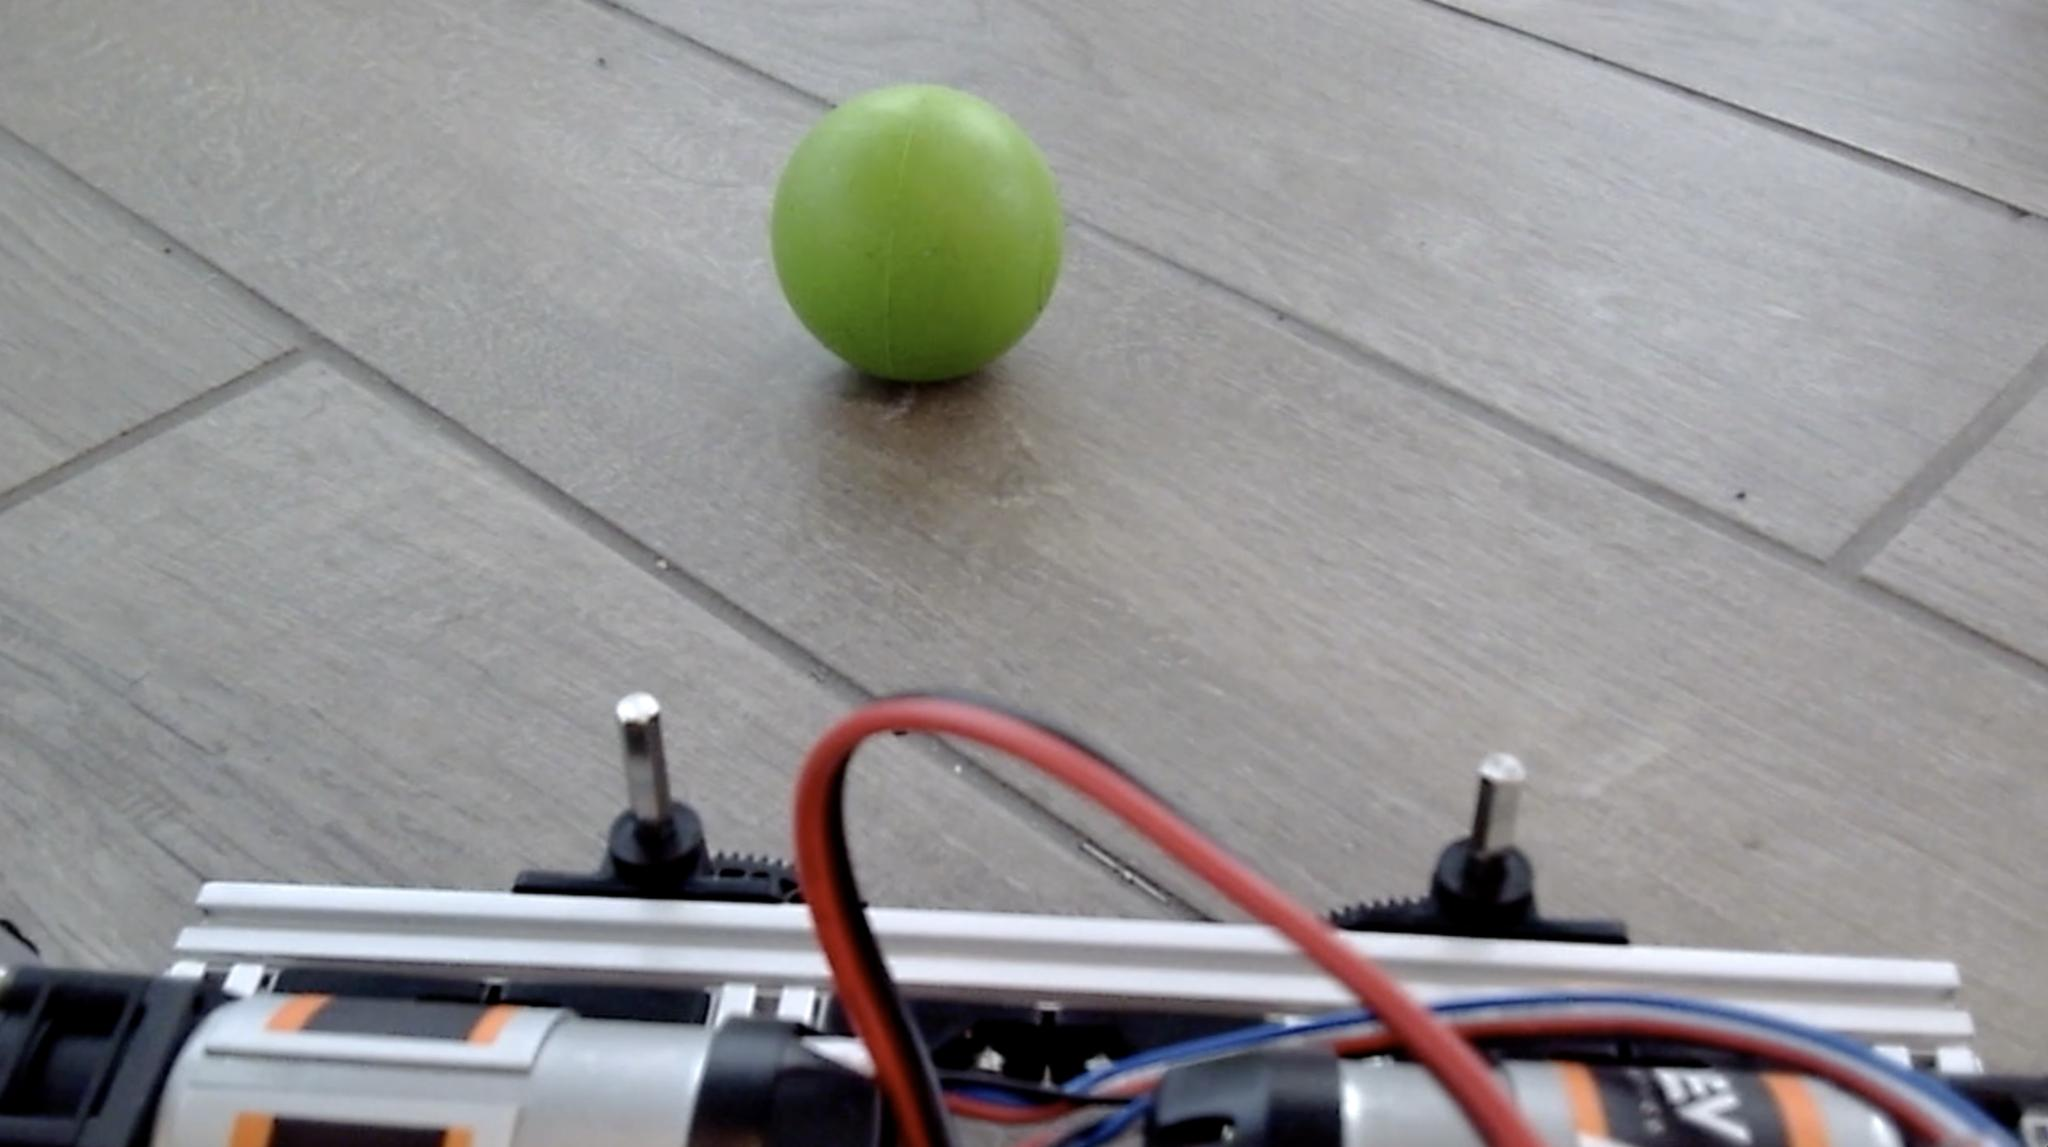Green Ball: (767, 79, 1066, 386)
